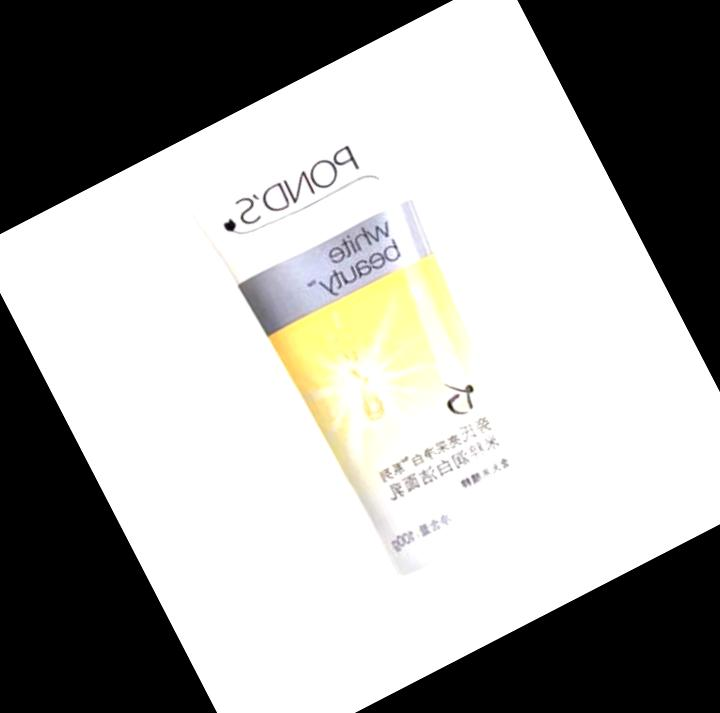cosmetic: (166, 74, 614, 658)
